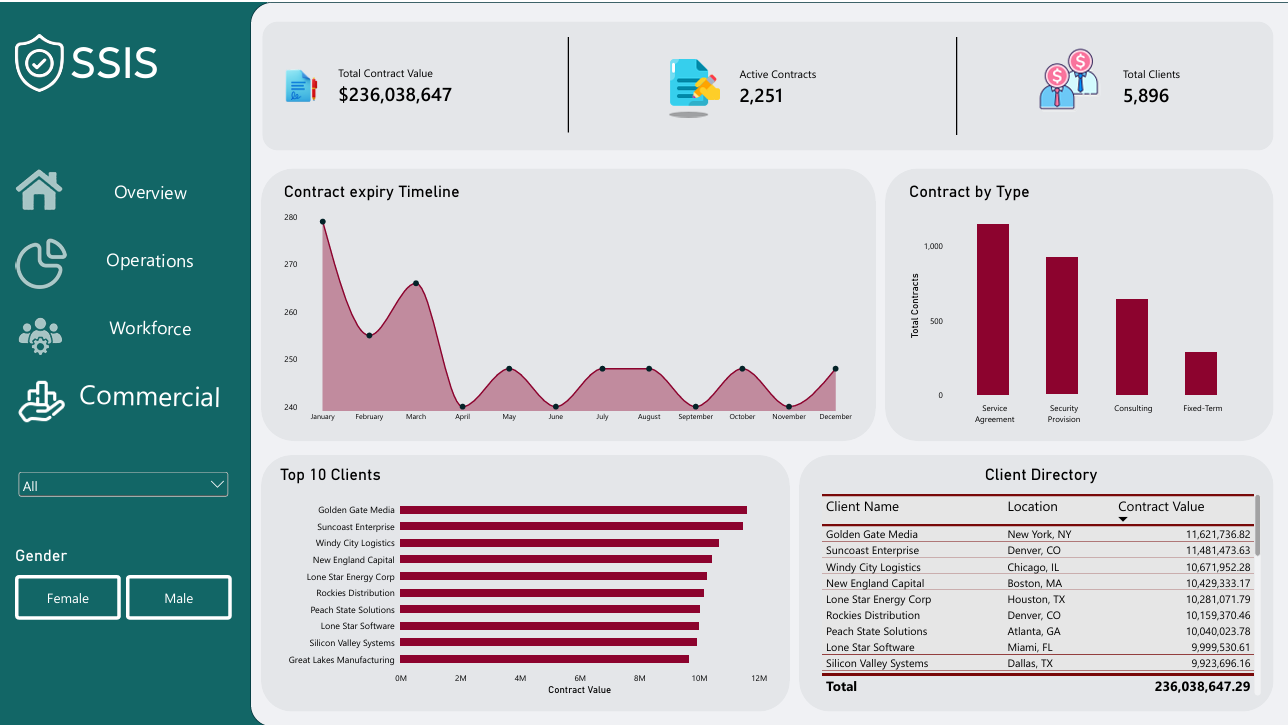

What the dashboard file says about the page in this screenshot:
{"tool":"powerbi","page":{"name":"Commercial","canvas":[1280,720],"ordinal":3},"visuals":[{"type":"textbox","box":[420.2,11.8,850.8,64.7],"z":0},{"type":"actionButton","box":[20.6,301.2,175.4,58.9],"z":0,"group":"g4"},{"type":"shape","box":[10.3,11.8,205.7,696.5],"z":1000},{"type":"image","box":[20.6,301.2,40.6,58.9],"z":1000,"group":"g4"},{"type":"textbox","box":[20.6,27.9,174.9,61.7],"z":2000},{"type":"actionButton","box":[20.6,567.2,175.4,58.9],"z":2000,"group":"g1"},{"type":"actionButton","box":[20.6,389.4,175.4,58.9],"z":3000,"group":"g3"},{"type":"group","id":"g1","title":"Group 1","box":[20.6,567.2,174.9,60.2],"z":3000},{"type":"group","id":"g2","title":"Group 2","box":[20.6,480.5,174.9,60.2],"z":4000},{"type":"group","id":"g3","title":"Group 3","box":[20.6,389.4,174.9,58.8],"z":5000},{"type":"actionButton","box":[20.6,480.5,175.4,60.2],"z":5000,"group":"g2"},{"type":"group","id":"g4","title":"Group 4","box":[20.6,301.2,174.9,58.8],"z":6000},{"type":"cardVisual","title":"Active Contracts","fields":{"Data":["ssis contract.Active Contracts"]},"box":[624.5,91.1,273.2,96.3],"z":6001,"group":"g7"},{"type":"image","box":[20.6,567.2,40.6,58.9],"z":6001,"group":"g1"},{"type":"image","box":[20.6,481.8,40.6,58.9],"z":6002,"group":"g2"},{"type":"image","box":[20.6,389.4,40.6,58.9],"z":6003,"group":"g3"},{"type":"group","id":"g5","title":"Group 1","box":[227.8,92.6,243.9,94],"z":7000},{"type":"image","box":[624.5,91.1,78.8,92.5],"z":8000,"group":"g7"},{"type":"group","id":"g6","title":"Group 4","box":[1025.6,91.1,245.4,99.9],"z":8000},{"type":"group","id":"g7","title":"Group 5","box":[624.5,91.1,273.3,95.5],"z":9000},{"type":"cardVisual","title":"Contract Value","fields":{"Data":["ssis contract.Total Contract Value"]},"box":[227.8,92.6,245,96.3],"z":10000,"group":"g5"},{"type":"clusteredColumnChart","title":"Contract by Type","fields":{"Category":["ssis contract.contract_type"],"Y":["CountNonNull(ssis contract.contract_id)"]},"box":[580.4,196.9,392.3,314.4],"z":10000},{"type":"donutChart","title":"Contract  Status","fields":{"Y":["CountNonNull(ssis contract.contract_id)"],"Category":["ssis contract.status"]},"box":[227.1,523,461.1,185.8],"z":11000},{"type":"cardVisual","title":"Total Clients","fields":{"Data":["ssis client.Total Clients"]},"box":[1025.6,91.1,246.1,99.5],"z":12000,"group":"g6"},{"type":"clusteredBarChart","title":"Top 10 Clients","fields":{"Category":["ssis client.client_name"],"Y":["Sum(ssis contract.contract_value)"]},"box":[227.1,196.8,348.2,313.8],"z":12000},{"type":"lineChart","title":"Contract expiry Timeline","fields":{"Category":["ssis contract.contract_end.Variation.Date Hierarchy.Year","ssis contract.contract_end.Variation.Date Hierarchy.Month","ssis contract.contract_end.Variation.Date Hierarchy.Day"],"Y":["CountNonNull(ssis contract.contract_id)"]},"box":[986,196.9,285.1,314.4],"z":13000},{"type":"image","box":[227.8,92.6,62.4,94.9],"z":13005,"group":"g5"},{"type":"image","box":[1026,93.6,74.2,94.4],"z":13008,"group":"g6"},{"type":"tableEx","title":"Client Directory","fields":{"Values":["ssis client.client_name","ssis client.location","Sum(ssis contract.contract_value)"]},"box":[701.9,523,568.4,185.8],"z":14000},{"type":"textbox","box":[227.8,27.9,158.7,48.5],"z":15000},{"type":"image","box":[20.6,94,174.9,173.4],"z":16000}]}

Visuals, with their boxes in screenshot pixels (x1, y1, x2, y2), scaled from the page's 1280x720 canvas onto the 1288x725 screenshot:
textbox: [left=423, top=12, right=1279, bottom=77]
actionButton: [left=21, top=303, right=197, bottom=363]
shape: [left=10, top=12, right=217, bottom=713]
image: [left=21, top=303, right=62, bottom=363]
textbox: [left=21, top=28, right=197, bottom=90]
actionButton: [left=21, top=571, right=197, bottom=630]
actionButton: [left=21, top=392, right=197, bottom=451]
"Group 1" group: [left=21, top=571, right=197, bottom=632]
"Group 2" group: [left=21, top=484, right=197, bottom=544]
"Group 3" group: [left=21, top=392, right=197, bottom=451]
actionButton: [left=21, top=484, right=197, bottom=544]
"Group 4" group: [left=21, top=303, right=197, bottom=362]
"Active Contracts" cardVisual: [left=628, top=92, right=903, bottom=189]
image: [left=21, top=571, right=62, bottom=630]
image: [left=21, top=485, right=62, bottom=544]
image: [left=21, top=392, right=62, bottom=451]
"Group 1" group: [left=229, top=93, right=475, bottom=188]
image: [left=628, top=92, right=708, bottom=185]
"Group 4" group: [left=1032, top=92, right=1279, bottom=192]
"Group 5" group: [left=628, top=92, right=903, bottom=188]
"Contract Value" cardVisual: [left=229, top=93, right=476, bottom=190]
"Contract by Type" clusteredColumnChart: [left=584, top=198, right=979, bottom=515]
"Contract  Status" donutChart: [left=229, top=527, right=693, bottom=714]
"Total Clients" cardVisual: [left=1032, top=92, right=1280, bottom=192]
"Top 10 Clients" clusteredBarChart: [left=229, top=198, right=579, bottom=514]
"Contract expiry Timeline" lineChart: [left=992, top=198, right=1279, bottom=515]
image: [left=229, top=93, right=292, bottom=189]
image: [left=1032, top=94, right=1107, bottom=189]
"Client Directory" tableEx: [left=706, top=527, right=1278, bottom=714]
textbox: [left=229, top=28, right=389, bottom=77]
image: [left=21, top=95, right=197, bottom=269]
